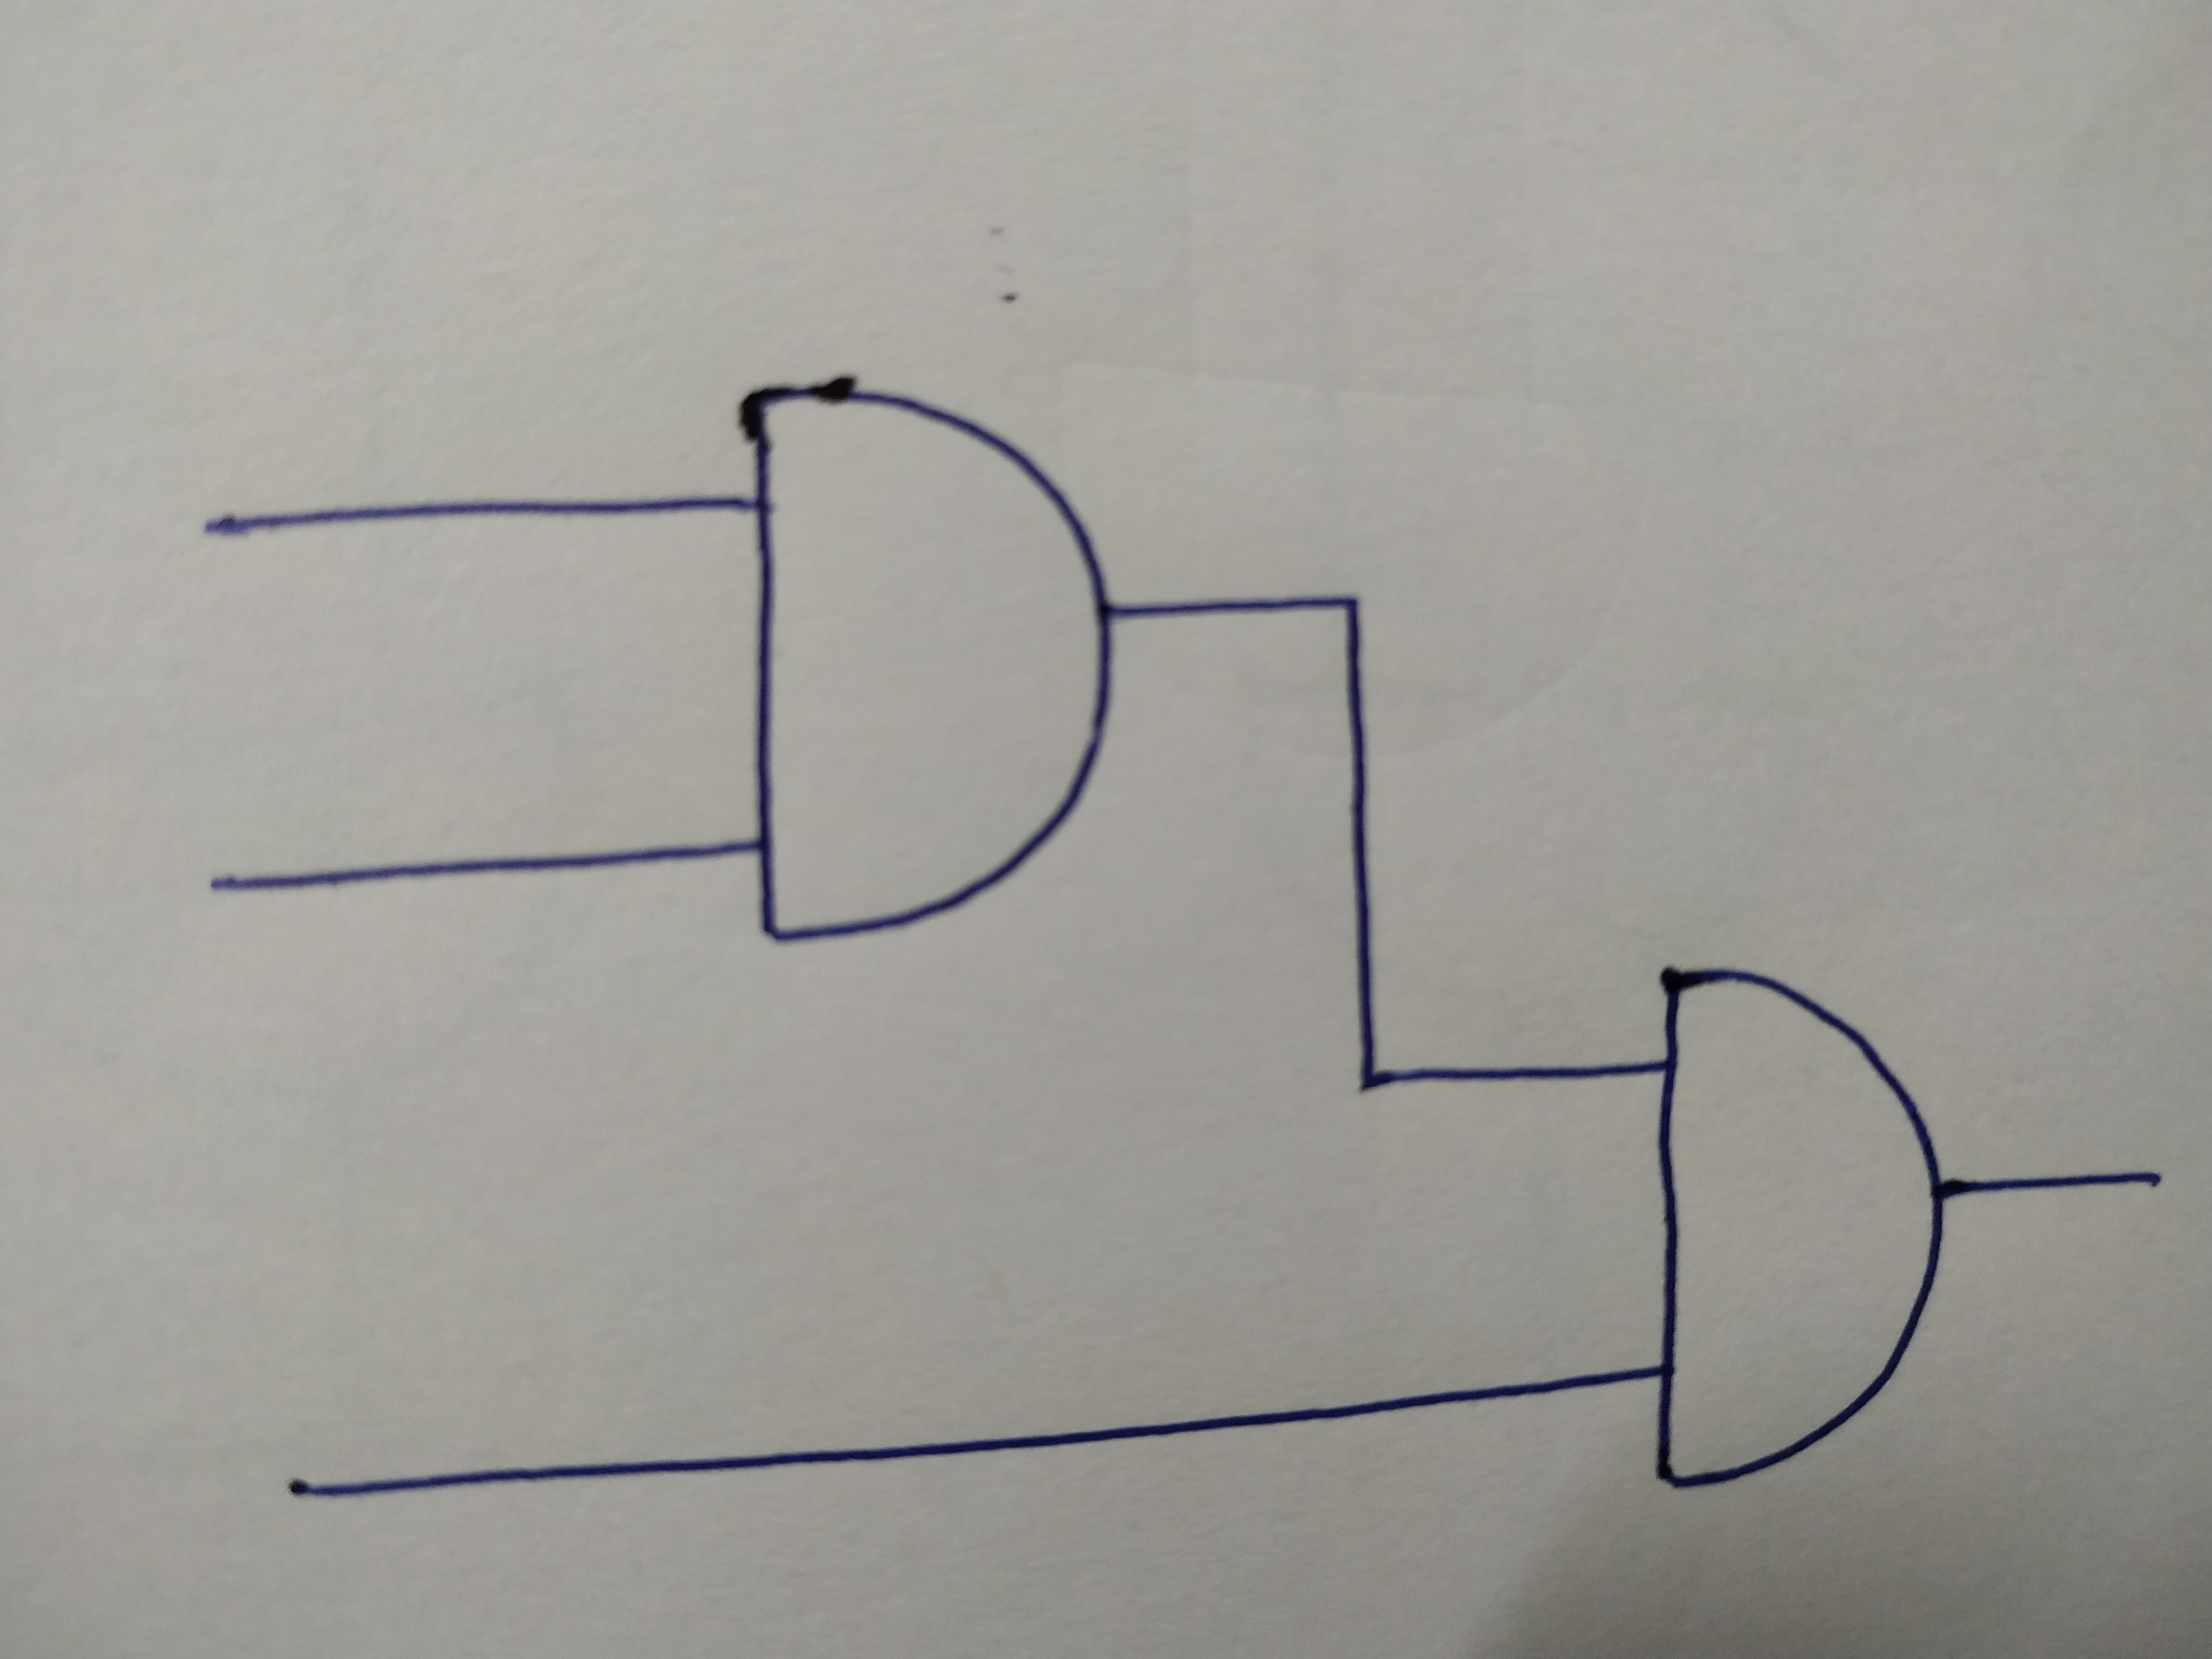and: (732, 380, 1123, 939), (1646, 972, 1942, 1492)
